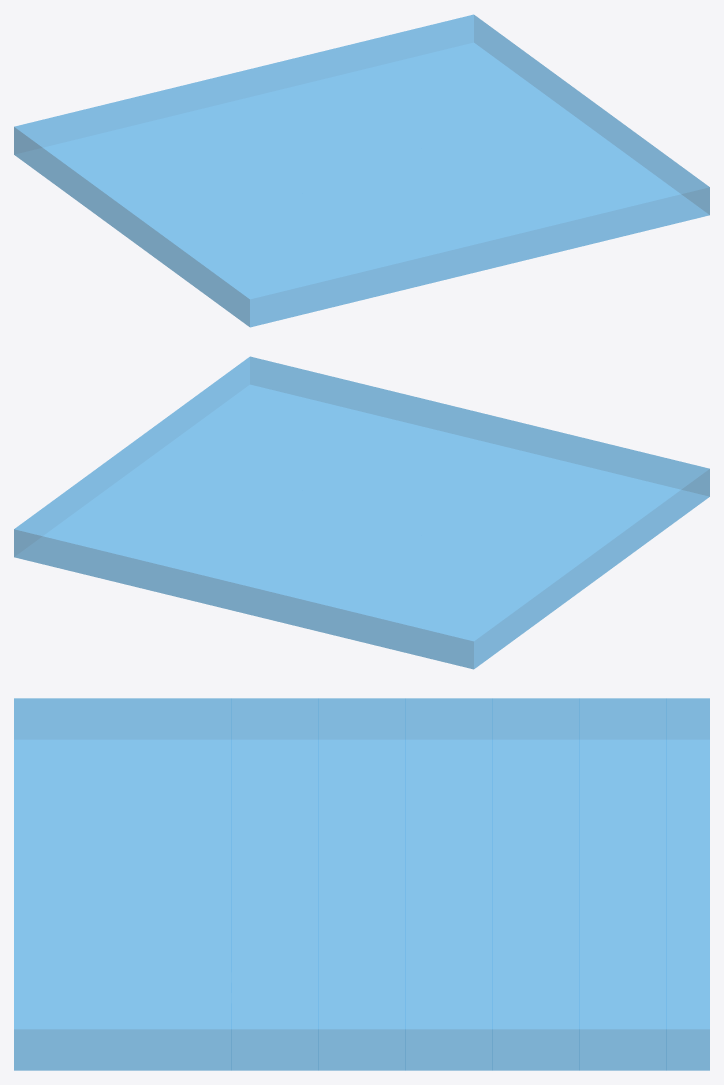
File: waves.fbx
3 views of the same model, one above another, from view 1: azimuth 30°, elevation 25°; view 2: azimuth 150°, elevation 25°; view 3: azimuth 270°, elevation 25° (orthographic). The views are drawn at different scales.
Visible parts, largest first — view 1: effect-waves-Box01; view 2: effect-waves-Box01; view 3: effect-waves-Box01.
Boxes of the visible parts, x1,y1,x2,y2 form: effect-waves-Box01: (14,14,709,327); effect-waves-Box01: (14,356,709,669); effect-waves-Box01: (14,698,709,1070).
Size of the model in its own units: 47675 by 2778 by 42378.
